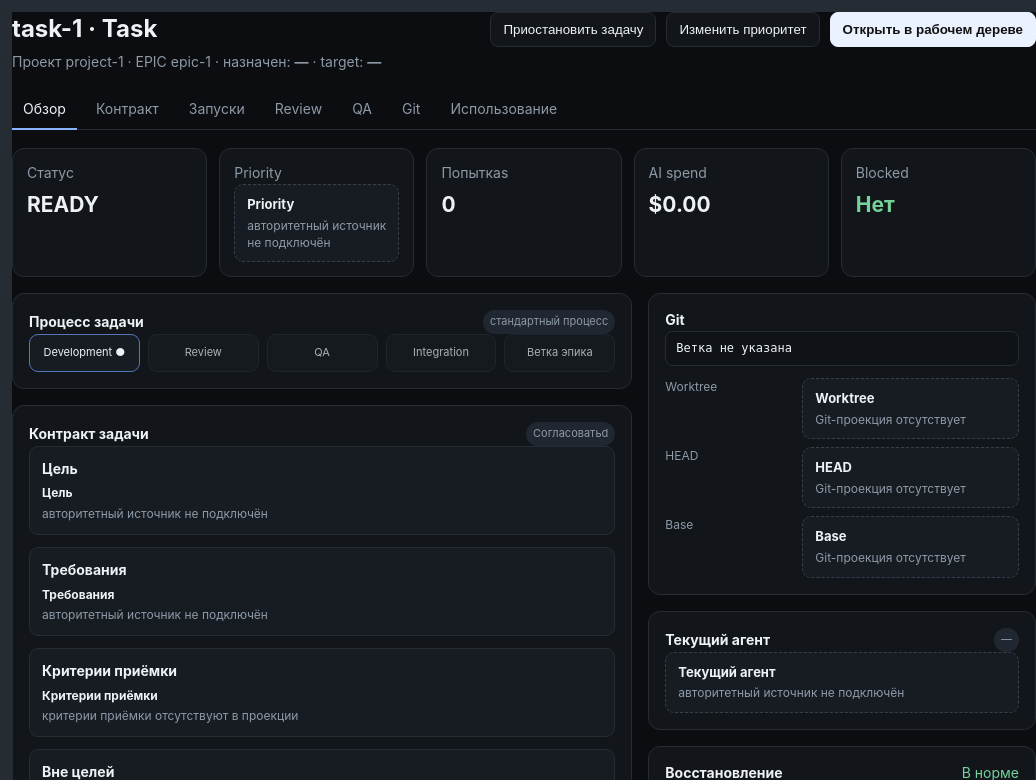
Primary workflows — реальные действия экранов через typed API › Task: недоступность паузы показывается ошибкой без потери контролов
Click the button "Приостановить задачу".
click(573, 30)  # box [490,12,656,47]
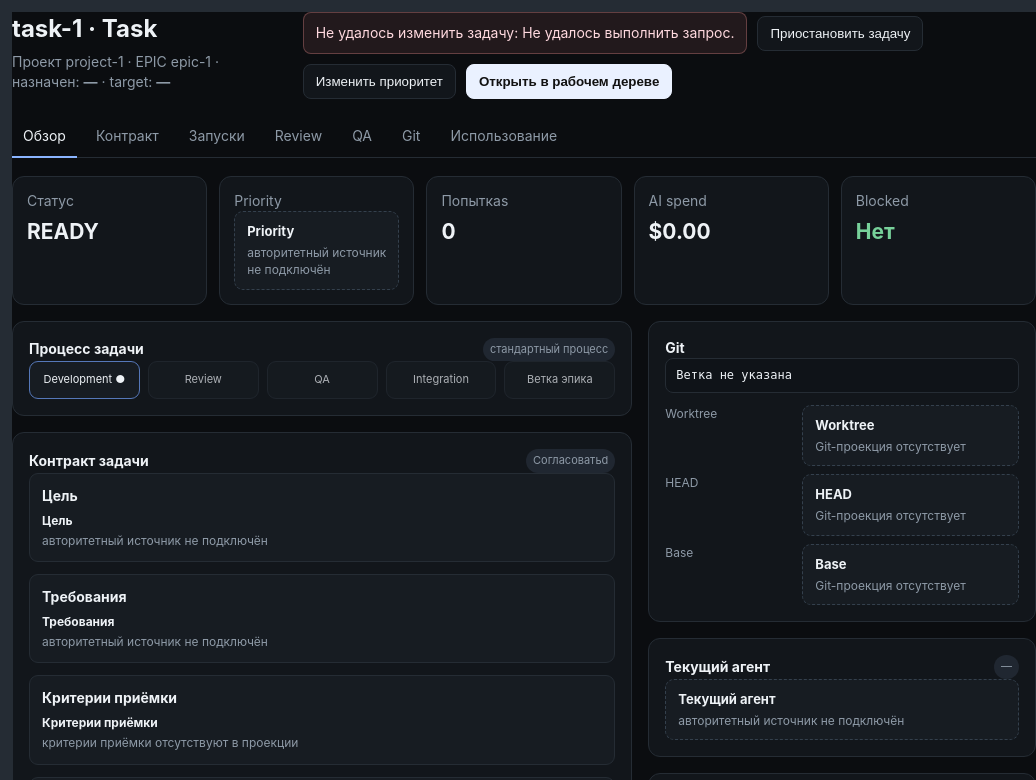
Result: the text "Не удалось изменить задачу: Не удалось выполнить запрос." is shown at [303,12,748,54]
